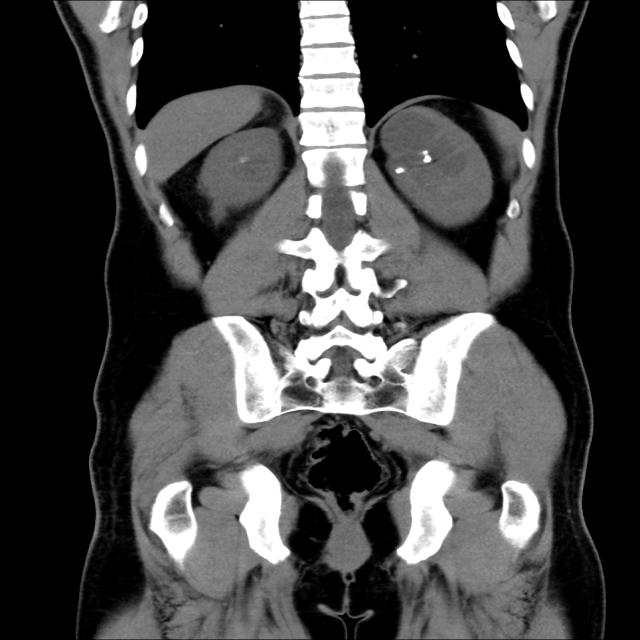kidneystone: (422, 150, 433, 163), (395, 168, 404, 174)
